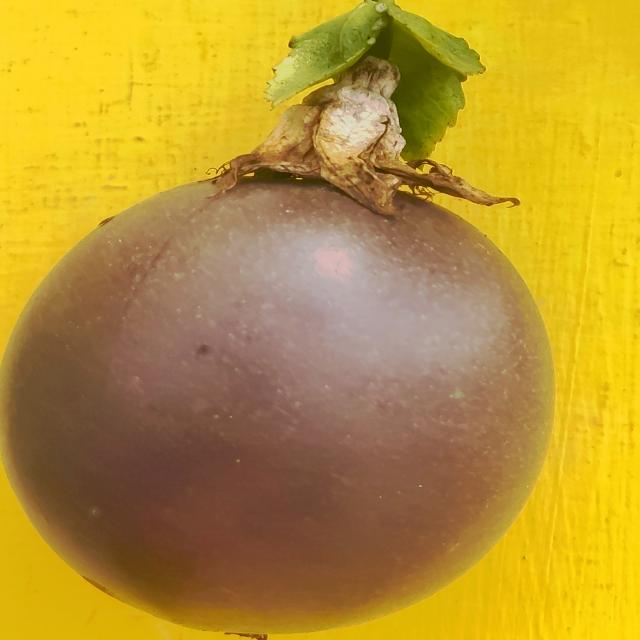Estado-5: (1, 0, 553, 634)
